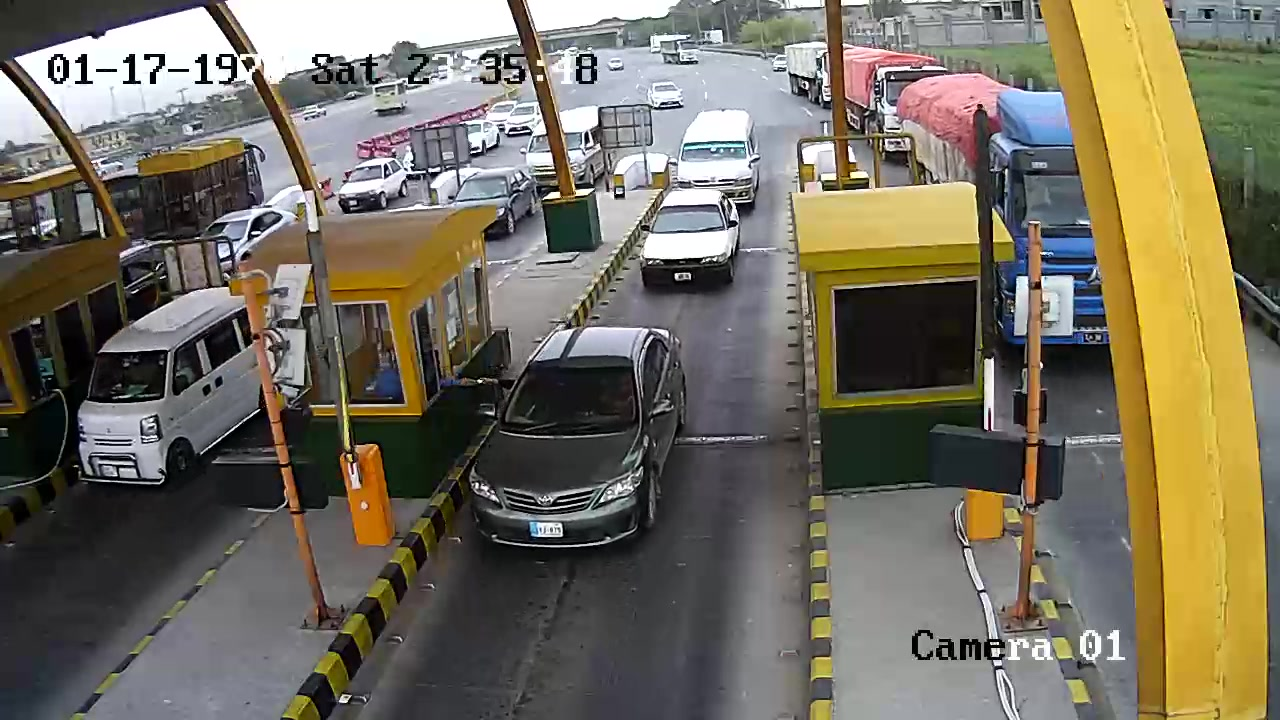F1: (466, 320, 708, 554), (637, 184, 748, 292)
